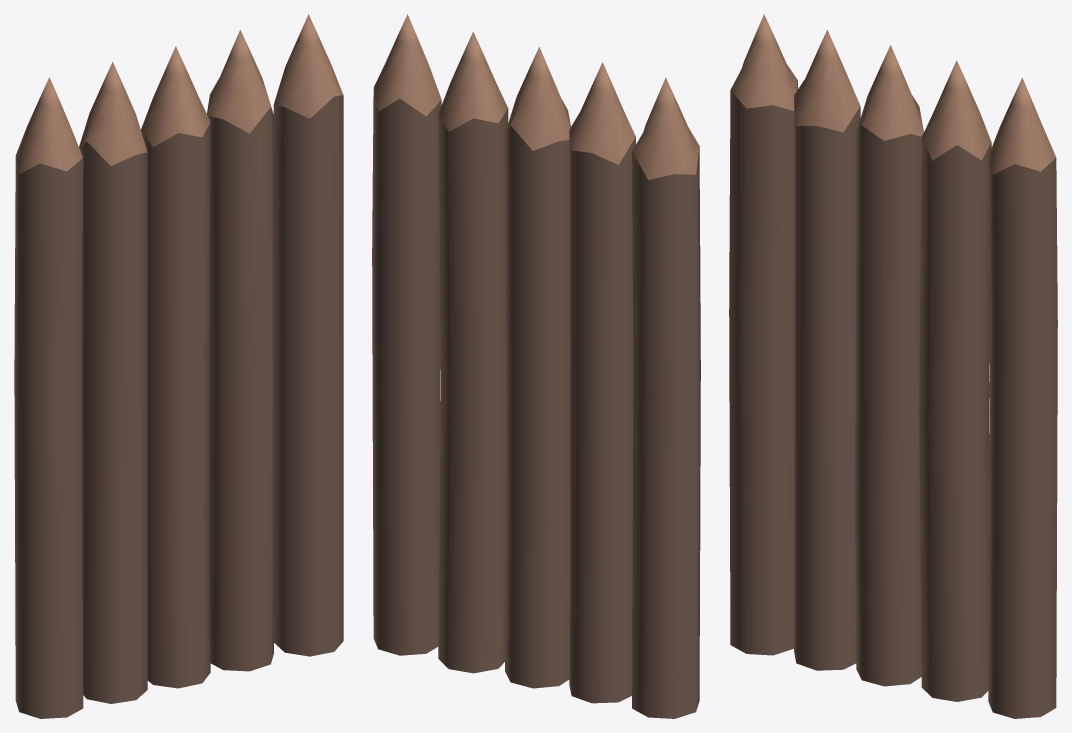
The model's file is Palisade_5.fbx.
The picture shows the model from 3 angles, left to right: view 1: azimuth 30°, elevation 25°; view 2: azimuth 150°, elevation 25°; view 3: azimuth 330°, elevation 25°; orthographic projection.
Parts seen in each view (by area): view 1: Palisade_5; view 2: Palisade_5; view 3: Palisade_5.
Part boxes in pixels (box(x1,y1,x2,y2)): Palisade_5: box(14, 14, 343, 718); Palisade_5: box(372, 14, 700, 718); Palisade_5: box(729, 14, 1057, 718).
Bounding box in the file's own units: 1.37 × 2.58 × 0.2656.
